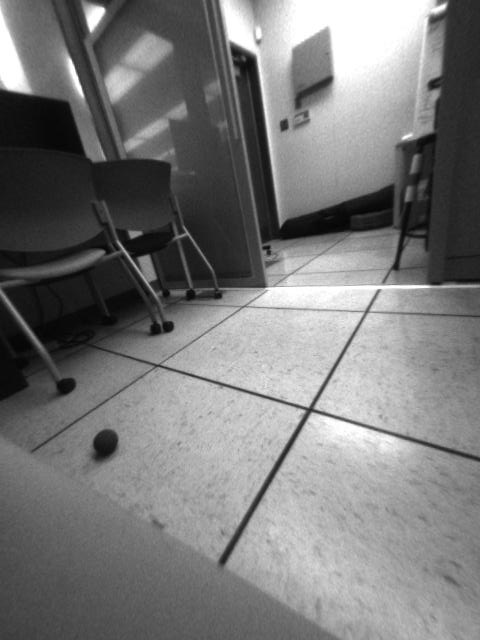dogtoy: (85, 424, 127, 464)
